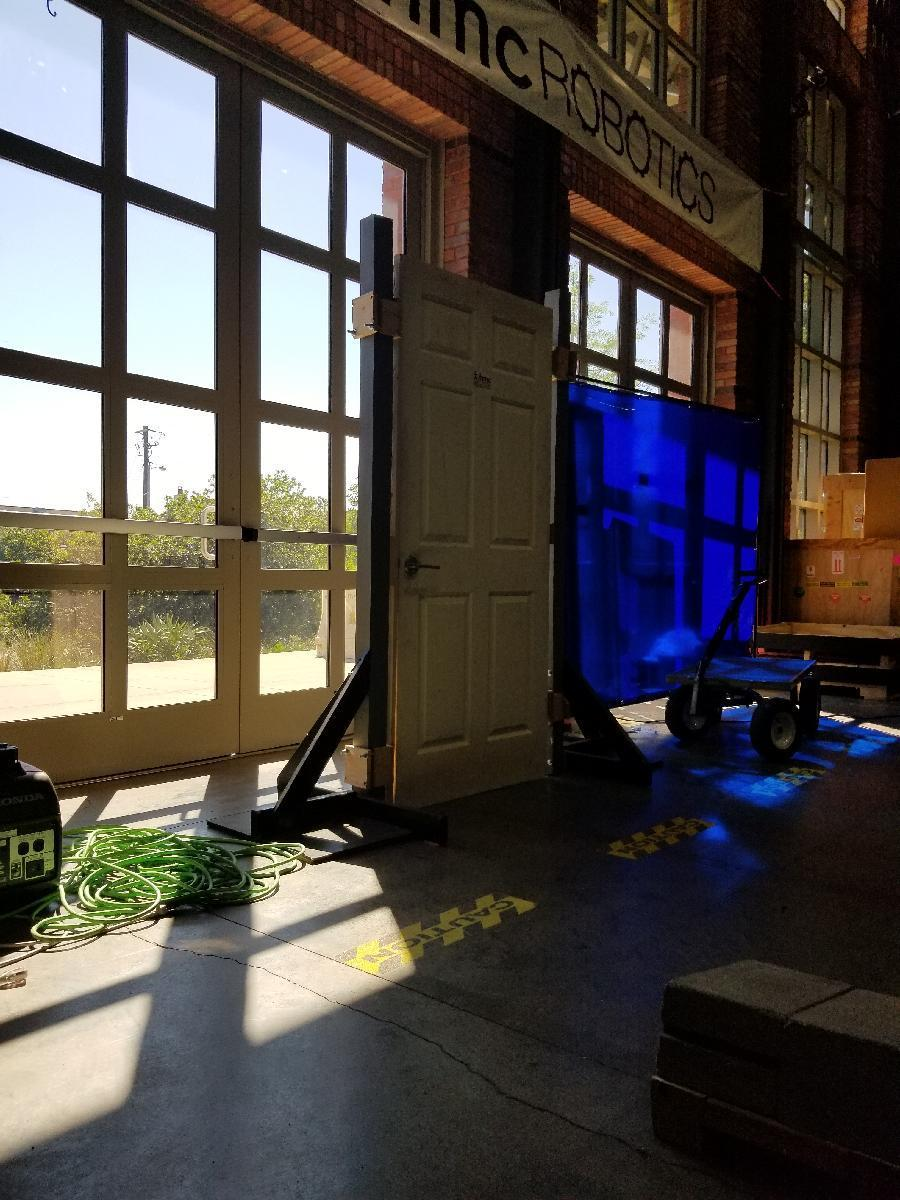door: (404, 250, 558, 802)
handle: (404, 556, 442, 578)
